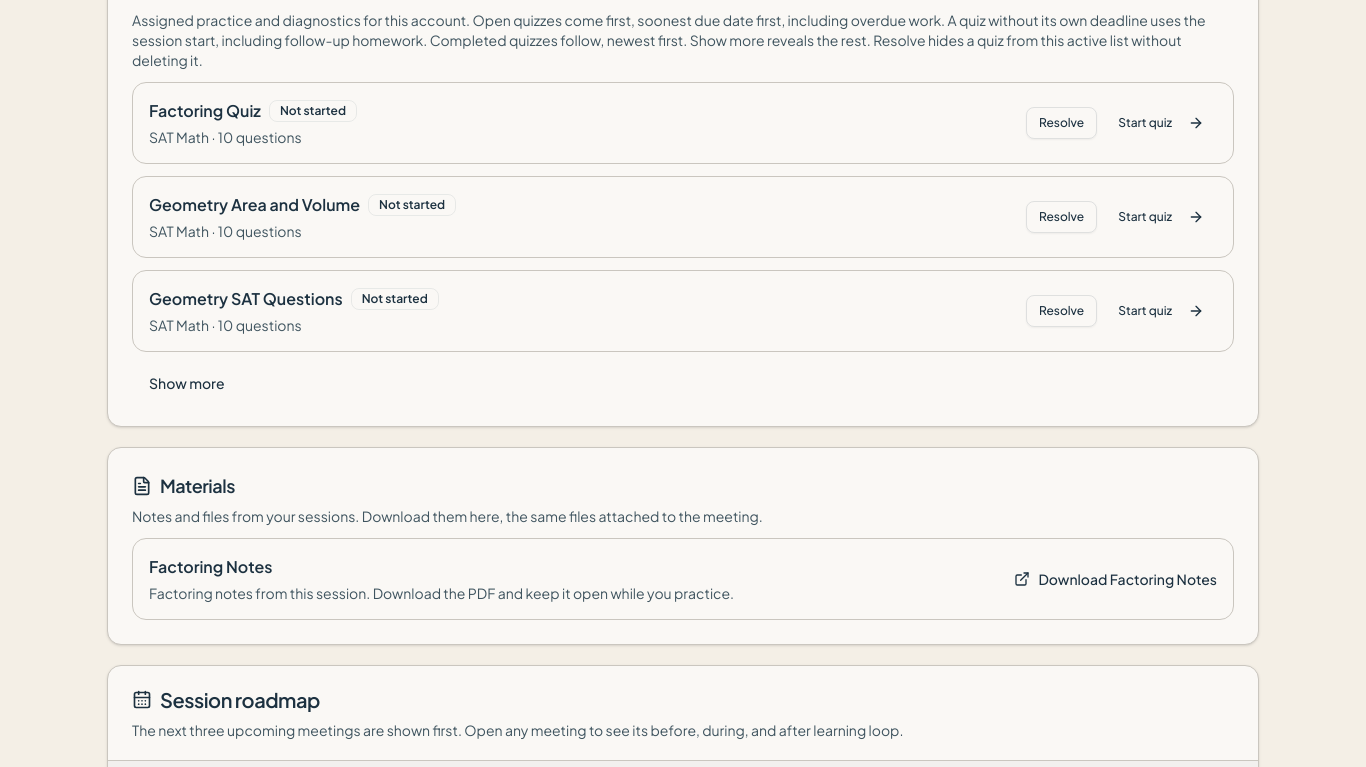
Test: authenticated role dashboard flows › Xavier follow-up quizzes and Factoring Notes stay on the client dashboard
The image size is (1366, 767).
(page scrolled)
Expected: the element with test id "client-quiz-factoring" shows "Not started", [280,103,346,118]
Expected: the text "Algebra pre-work" is not shown
Click the button with test id "assignment-notifications-show-more": (187, 383) [132,364,242,402]
(page scrolled)
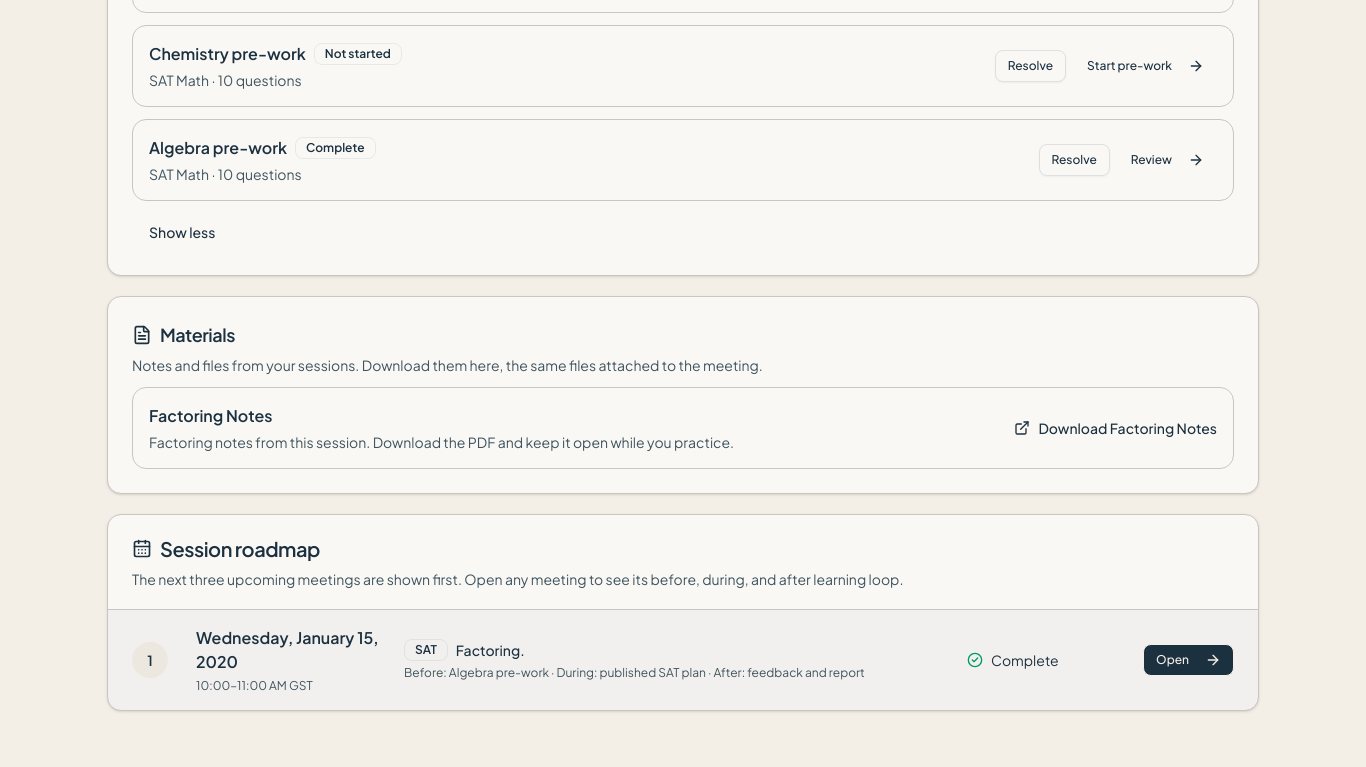
Expected: the element with test id "client-material-factoring-notes" shows "Factoring Notes", [149,405,272,426]
Result: the button with test id "assignment-notifications-show-more" reads "Show less" at [132,213,232,251]
